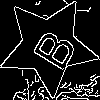B: (23, 21, 79, 73)
